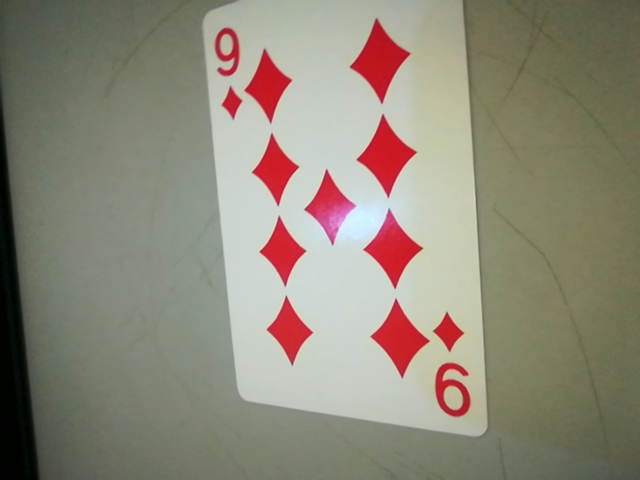fk 9: (426, 306, 483, 428)
